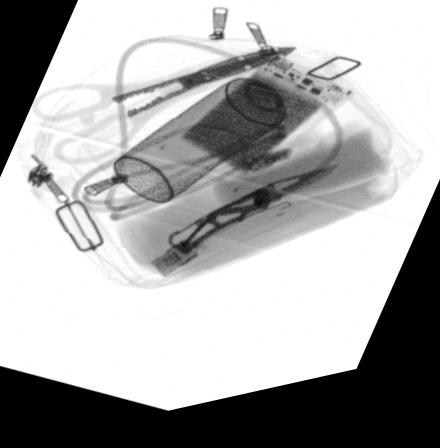Knife: (167, 177, 343, 263)
Powerbank: (153, 60, 354, 197)
Scissors: (33, 56, 302, 167)
Sprayer: (111, 59, 322, 209)
